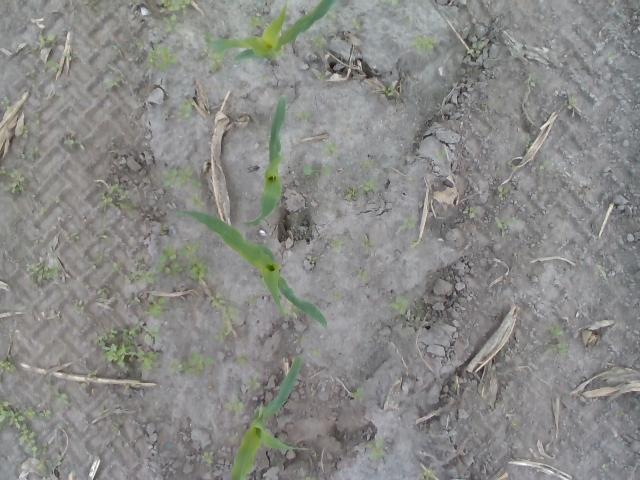Maize: (173, 207, 327, 328), (229, 356, 308, 480), (203, 0, 335, 67), (242, 96, 290, 229)
Weeds: (95, 318, 161, 370), (0, 398, 52, 458), (155, 242, 217, 285), (208, 292, 242, 343), (95, 183, 137, 216), (162, 164, 209, 191), (168, 351, 215, 377), (0, 166, 33, 200), (125, 254, 159, 286), (26, 259, 63, 287), (145, 45, 176, 72), (344, 178, 379, 201), (407, 32, 438, 55), (32, 31, 58, 56), (222, 391, 246, 417), (388, 294, 411, 320), (364, 438, 386, 460), (144, 295, 166, 317), (174, 97, 193, 121), (302, 164, 334, 178), (102, 73, 125, 92), (318, 140, 340, 159), (158, 0, 192, 12), (494, 215, 514, 235), (466, 38, 488, 56), (360, 233, 376, 257), (208, 48, 224, 72), (284, 297, 302, 317), (545, 343, 570, 356), (326, 3, 344, 21), (398, 214, 416, 232), (98, 228, 114, 248), (52, 389, 68, 409), (0, 358, 17, 376), (88, 253, 104, 272), (246, 14, 264, 30), (72, 303, 88, 321), (542, 324, 562, 338), (534, 159, 552, 174), (94, 286, 109, 304), (248, 368, 260, 390), (192, 195, 208, 211), (528, 70, 544, 86), (326, 238, 344, 252), (164, 13, 176, 34), (45, 57, 60, 73), (350, 386, 366, 400), (354, 266, 368, 282), (38, 462, 50, 480), (125, 294, 143, 306), (350, 15, 362, 32), (313, 33, 325, 50), (62, 138, 82, 148), (462, 207, 480, 218), (234, 353, 248, 367), (202, 448, 214, 464), (409, 238, 425, 250), (0, 96, 12, 112), (63, 230, 82, 240), (294, 110, 312, 120), (382, 82, 394, 96), (498, 186, 510, 200), (110, 260, 122, 274), (434, 148, 447, 160), (306, 255, 317, 269), (200, 30, 214, 41), (30, 146, 41, 160), (524, 137, 534, 152), (34, 112, 43, 128), (422, 467, 434, 479), (20, 126, 30, 140), (416, 304, 424, 321), (311, 345, 321, 358), (360, 159, 370, 172), (566, 96, 575, 110), (598, 464, 610, 474), (110, 422, 120, 434), (87, 368, 97, 379), (382, 0, 400, 6), (607, 51, 617, 60), (40, 207, 49, 217), (490, 365, 497, 377), (248, 294, 256, 304), (239, 206, 248, 214), (335, 292, 343, 300), (304, 475, 316, 480), (319, 70, 325, 80), (511, 420, 517, 428)
